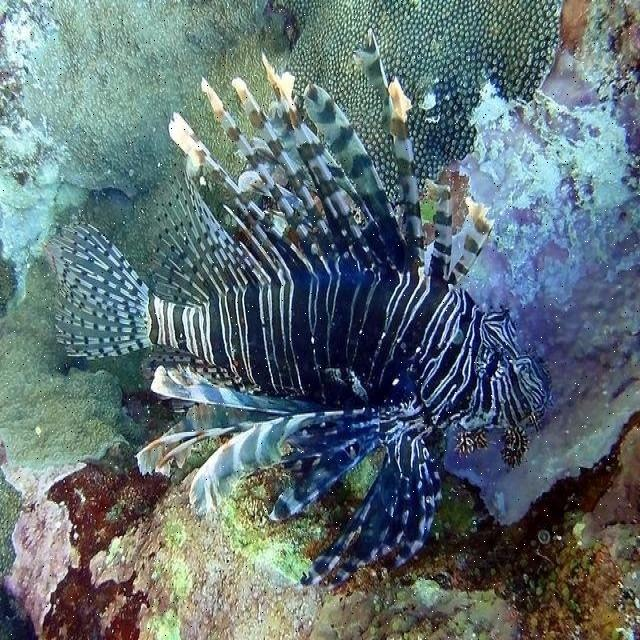fish: (40, 29, 553, 589)
reefs: (273, 1, 562, 209)
